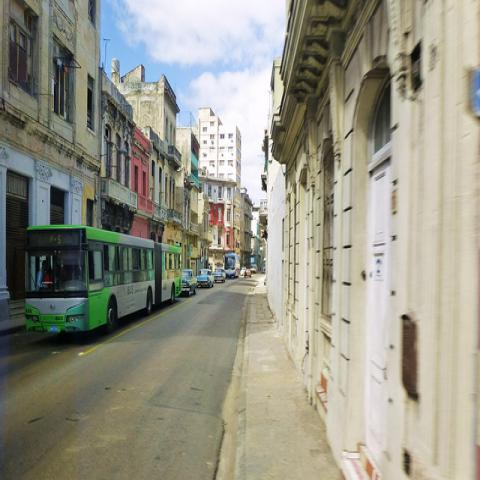bus: (26, 226, 157, 330), (223, 252, 240, 280)
car: (182, 268, 198, 296), (196, 269, 214, 289), (213, 268, 226, 283), (244, 268, 252, 278), (240, 267, 246, 275)
